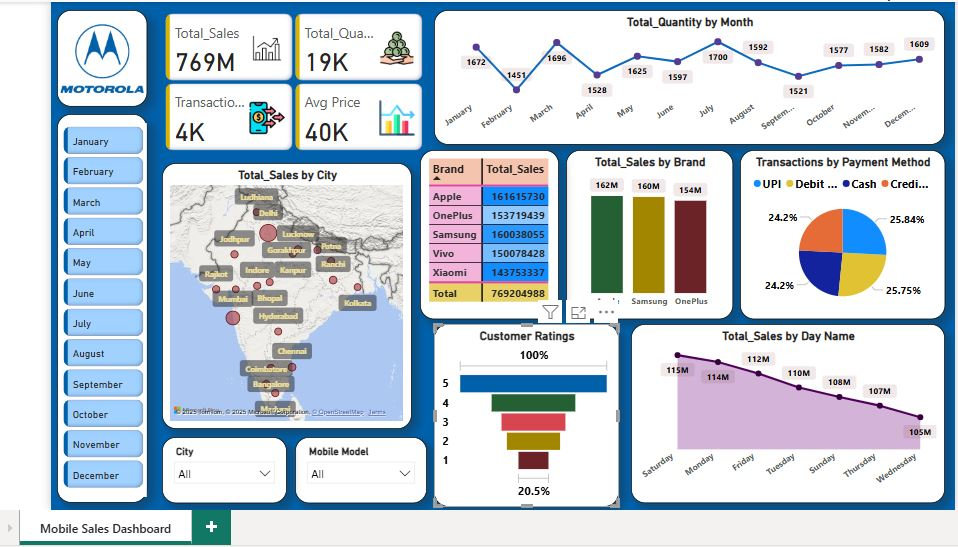

The page's visual inventory and layout, read from the dashboard file:
{"tool":"powerbi","page":{"name":"Mobile Sales Dashboard","canvas":[1280,720],"ordinal":0},"visuals":[{"type":"shape","box":[8.5,11.3,127.6,137.5],"z":0},{"type":"image","box":[8.5,11.3,127.6,137.5],"z":1000},{"type":"shape","box":[8.5,158.7,127.6,551.3],"z":2000},{"type":"advancedSlicerVisual","fields":{"Values":["Sales_Data.Date.Variation.Date Hierarchy.Month"]},"box":[12.8,171.5,123.3,530.1],"z":3000},{"type":"cardVisual","fields":{"Data":["Sales_Data.Total_Sales","Sales_Data.Total_Quantity","Sales_Data.Transactions","Sales_Data.Avg Price"]},"box":[157.3,11.3,375.6,204.1],"z":4000},{"type":"map","fields":{"Category":["Sales_Data.City"],"Size":["Sales_Data.Total_Sales"]},"box":[157.3,228.2,354.3,377],"z":5000},{"type":"lineChart","fields":{"Y":["Sales_Data.Total_Quantity"],"Category":["Sales_Data.Date.Variation.Date Hierarchy.Month","Sales_Data.Date.Variation.Date Hierarchy.Day"]},"box":[542.8,11.3,724.3,191.3],"z":6000},{"type":"clusteredColumnChart","fields":{"Y":["Sales_Data.Total_Sales"],"Category":["Sales_Data.Brand"]},"box":[729.9,209.8,236.7,239.5],"z":7000},{"type":"pieChart","fields":{"Category":["Sales_Data.Payment Method"],"Y":["Sales_Data.Transactions"]},"box":[976.5,209.8,290.6,239.5],"z":8000},{"type":"funnel","title":" Customer Ratings ","fields":{"Category":["Sales_Data.Customer Ratings"],"Y":["CountNonNull(Sales_Data.Customer Ratings)"]},"box":[542.8,456.4,262.2,259.4],"z":9000},{"type":"areaChart","fields":{"Category":["Sales_Data.Day Name"],"Y":["Sales_Data.Total_Sales"]},"box":[822,456.4,445,253.7],"z":10000},{"type":"tableEx","fields":{"Values":["Sales_Data.Brand","Sales_Data.Total_Sales"]},"box":[523,209.8,197,239.5],"z":11000},{"type":"slicer","fields":{"Values":["Sales_Data.Mobile Model"]},"box":[345.8,616.5,187.1,93.5],"z":11001},{"type":"slicer","fields":{"Values":["Sales_Data.City"]},"box":[157.3,616.5,177.2,93.5],"z":11002}]}

Visuals, with their boxes in screenshot pixels (x1, y1, x2, y2):
shape: (53, 6, 144, 103)
image: (53, 6, 144, 103)
shape: (53, 110, 144, 503)
advancedSlicerVisual - Sales_Data.Date.Variation.Date Hierarchy.Month: (57, 120, 144, 497)
cardVisual - Sales_Data.Total_Sales x Sales_Data.Total_Quantity: (159, 6, 427, 151)
map - Sales_Data.City x Sales_Data.Total_Sales: (159, 160, 412, 428)
lineChart - Sales_Data.Total_Quantity x Sales_Data.Date.Variation.Date Hierarchy.Month: (434, 6, 949, 142)
clusteredColumnChart - Sales_Data.Total_Sales x Sales_Data.Brand: (567, 147, 736, 317)
pieChart - Sales_Data.Payment Method x Sales_Data.Transactions: (743, 147, 949, 317)
" Customer Ratings " funnel: (434, 322, 620, 507)
areaChart - Sales_Data.Day Name x Sales_Data.Total_Sales: (633, 322, 949, 503)
tableEx - Sales_Data.Brand x Sales_Data.Total_Sales: (420, 147, 560, 317)
slicer - Sales_Data.Mobile Model: (294, 436, 427, 503)
slicer - Sales_Data.City: (159, 436, 286, 503)
